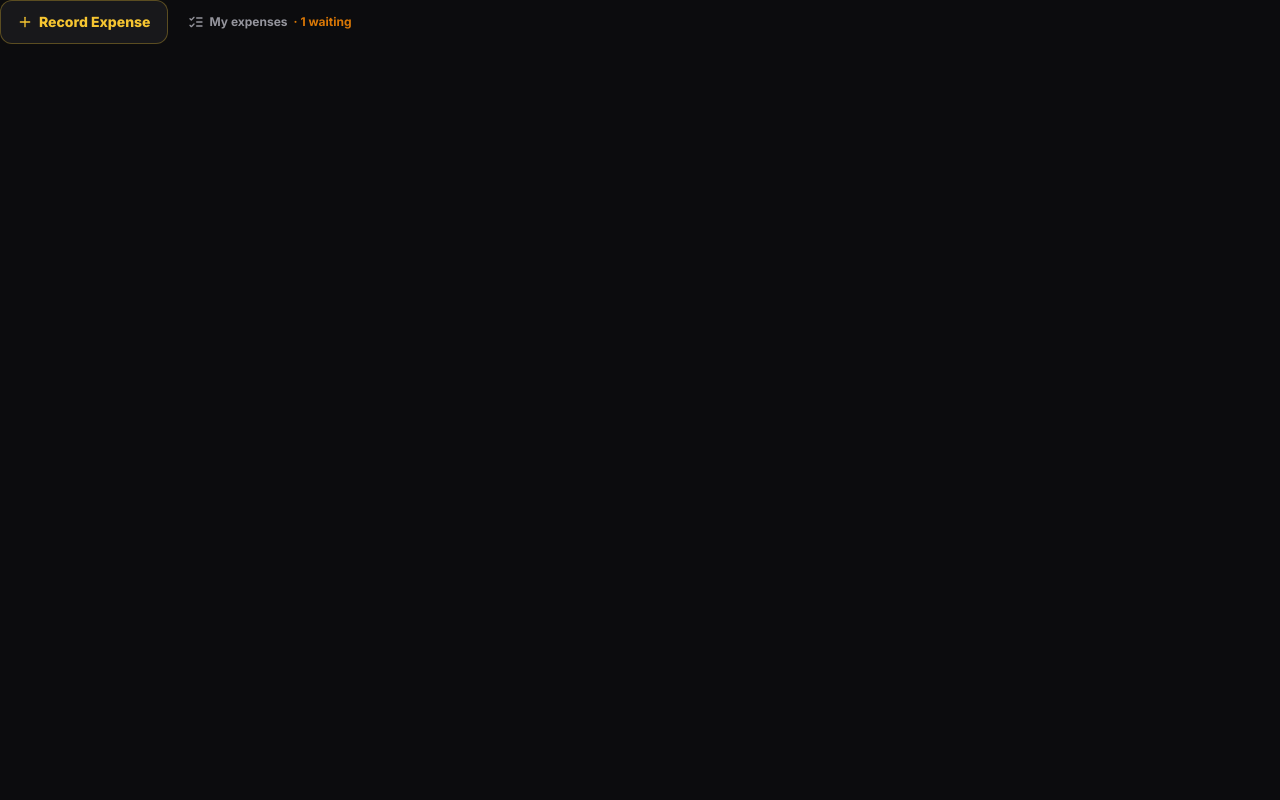
Test: a worker's My expenses › lists only their own, with what became of each, and no total
The width and height of the screenshot is (1280, 800).
Click the button "My expenses · 1 waiting" at (270, 22), box [180, 0, 360, 44]
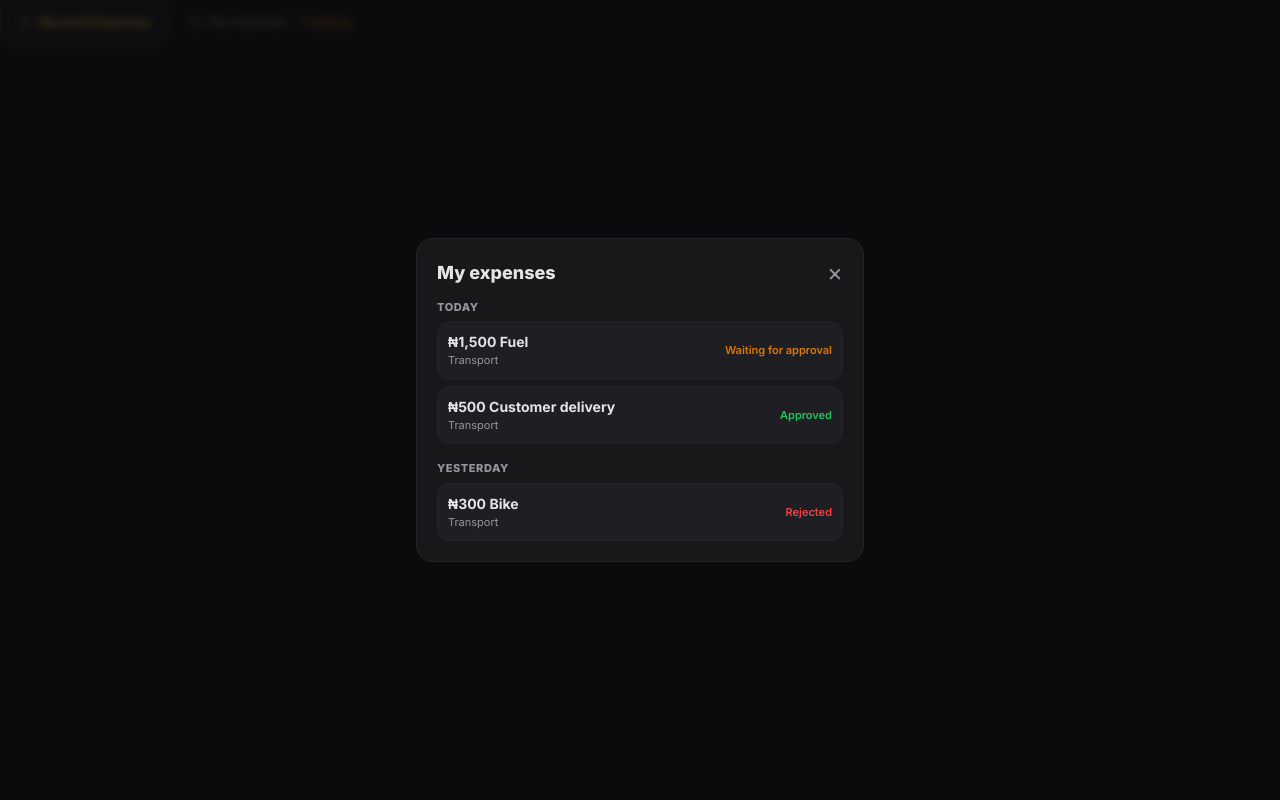
expect the text "Today" is shown: met, box [437, 300, 479, 314]
expect the text "Yesterday" is shown: met, box [437, 461, 509, 475]
expect the list item "₦500 Customer delivery" shows "Approved": met, box [780, 408, 832, 422]
